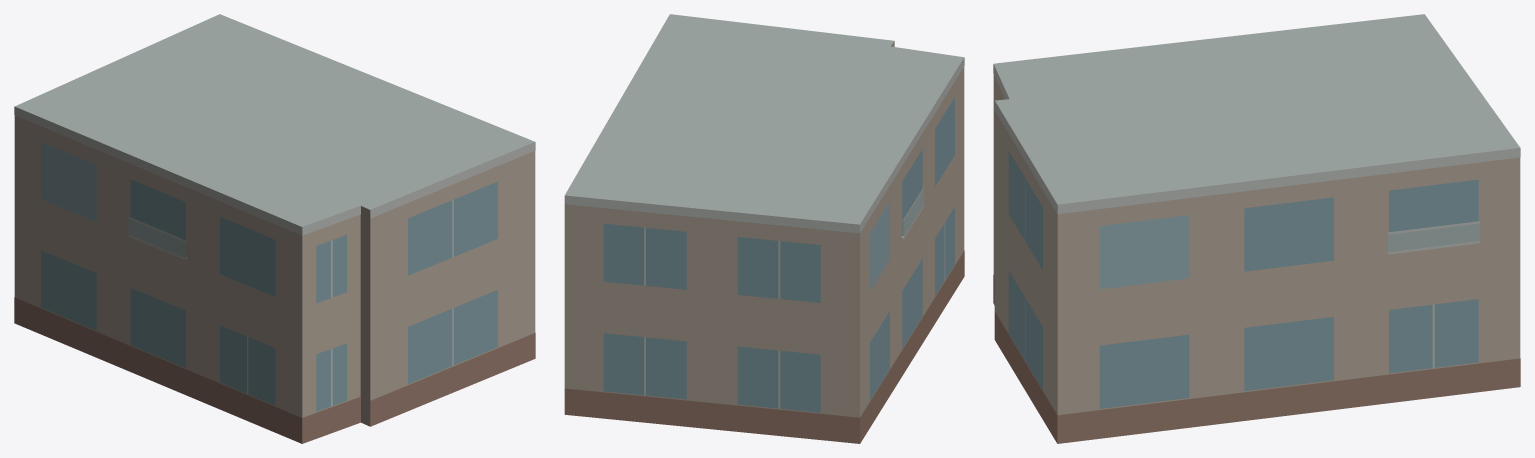
File: survey-upis-32610199.glb
3 renders of one model, left to right at view 1: azimuth 30°, elevation 25°; view 2: azimuth 150°, elevation 25°; view 3: azimuth 270°, elevation 25°, orthographic. The views are drawn at different scales.
Parts seen in each view (by area): view 1: survey-upis-32610199.tmp; view 2: survey-upis-32610199.tmp; view 3: survey-upis-32610199.tmp.
Boxes of the visible parts, box(x1,y1,x2,y2) form: survey-upis-32610199.tmp: box(14, 14, 535, 443); survey-upis-32610199.tmp: box(564, 14, 964, 443); survey-upis-32610199.tmp: box(993, 14, 1520, 443).
Size of the model in its own units: 10.45 by 6.1 by 12.2.
